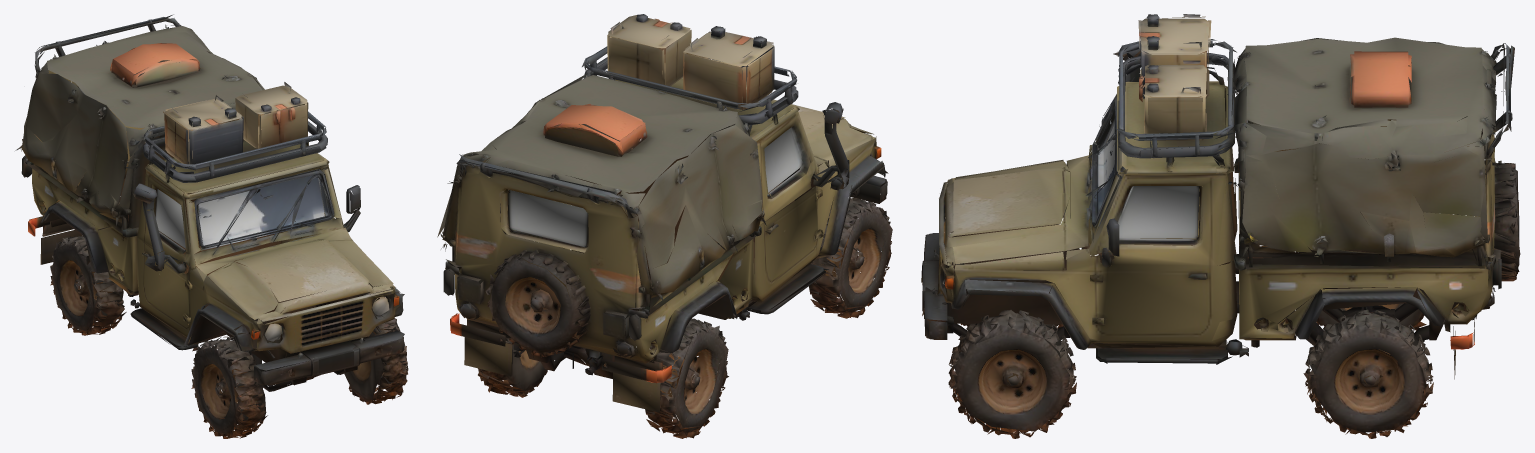
Rendered from ch1_expedition_supply_truck_LOD1.glb.
3 views of the same model, side by side, from view 1: azimuth 30°, elevation 25°; view 2: azimuth 150°, elevation 25°; view 3: azimuth 270°, elevation 25° (orthographic). The views are drawn at different scales.
Parts seen in each view (by area): view 1: tripo_node_460f9a1c-10bd-4294-aa59-0ef3abb51b50; view 2: tripo_node_460f9a1c-10bd-4294-aa59-0ef3abb51b50; view 3: tripo_node_460f9a1c-10bd-4294-aa59-0ef3abb51b50.
Part boxes in pixels (box(x1,y1,x2,y2)): tripo_node_460f9a1c-10bd-4294-aa59-0ef3abb51b50: box(15, 14, 408, 438); tripo_node_460f9a1c-10bd-4294-aa59-0ef3abb51b50: box(437, 14, 892, 438); tripo_node_460f9a1c-10bd-4294-aa59-0ef3abb51b50: box(921, 14, 1520, 438).
Size of the model in its own units: 0.5264 by 0.6302 by 1.
Materials: 1 (1 with a texture image).
